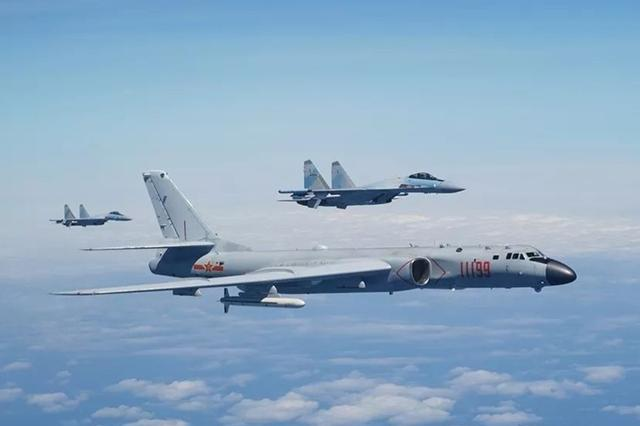airplane: (41, 167, 580, 318), (276, 153, 468, 213), (48, 199, 133, 233)
